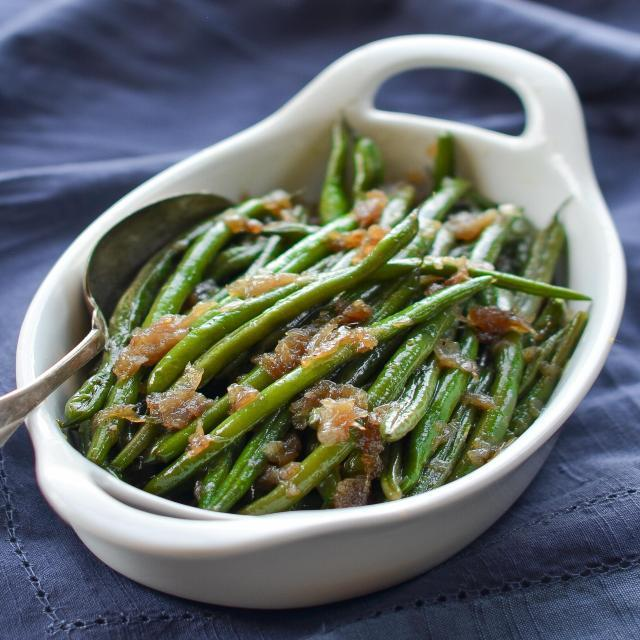Beans: (59, 115, 590, 525)
